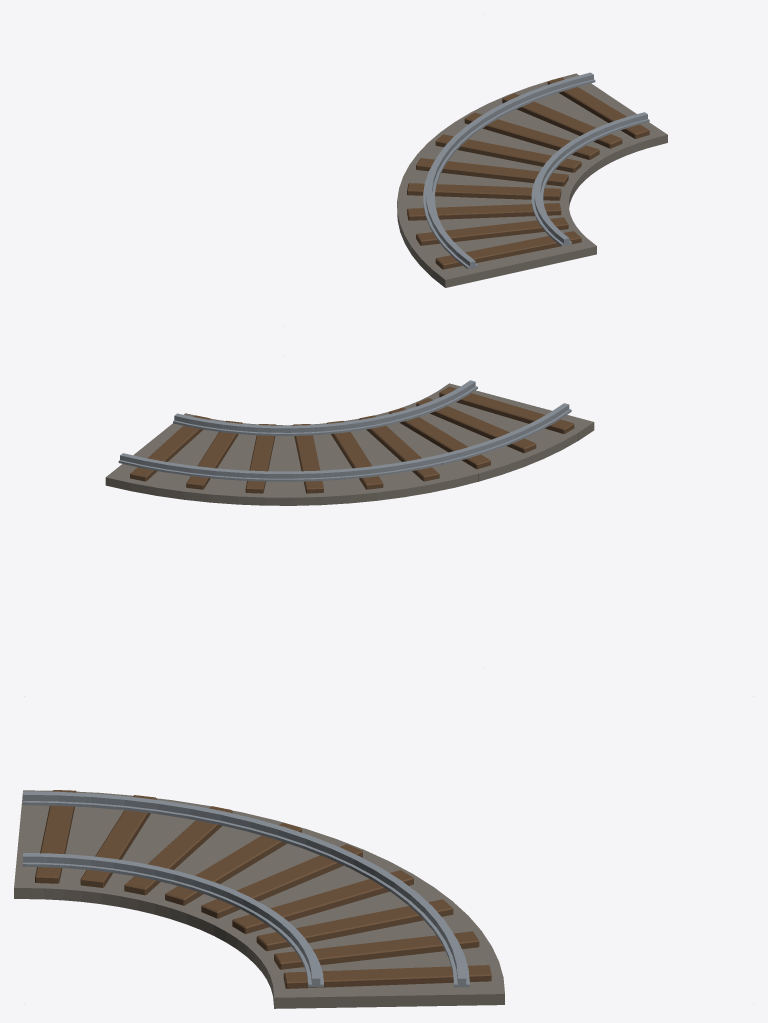
The model's file is rail_virage.glb.
The picture shows the model from 3 angles, top to bottom: view 1: azimuth 30°, elevation 25°; view 2: azimuth 150°, elevation 25°; view 3: azimuth 270°, elevation 25°; orthographic projection. The views are drawn at different scales.
Parts seen in each view (by area): view 1: rail_ballast.004, rail_traverse.006, rail_rail.006; view 2: rail_ballast.004, rail_traverse.006, rail_rail.006; view 3: rail_ballast.004, rail_traverse.006, rail_rail.006.
Boxes of the visible parts, x1,y1,x2,y2 form: rail_ballast.004: [397, 73, 667, 287]; rail_traverse.006: [407, 77, 649, 269]; rail_rail.006: [423, 72, 649, 269]; rail_ballast.004: [105, 383, 594, 505]; rail_traverse.006: [130, 386, 574, 493]; rail_rail.006: [118, 380, 571, 481]; rail_ballast.004: [14, 790, 504, 1008]; rail_traverse.006: [35, 790, 491, 988]; rail_rail.006: [22, 791, 469, 987].
Bounding box in the file's own units: 3.04 × 0.12 × 3.04.
